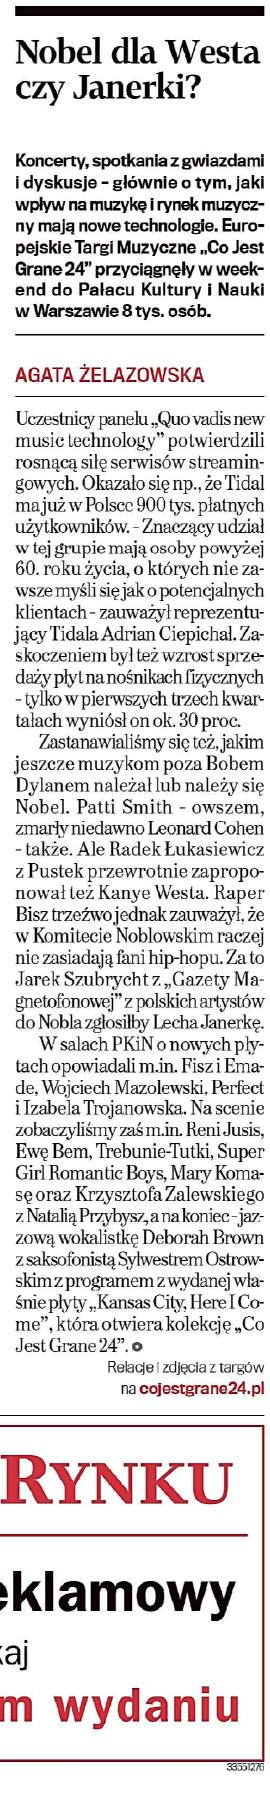author: (9, 358, 210, 390)
body: (9, 401, 269, 1358)
lead: (10, 144, 268, 325)
title: (10, 28, 262, 112)
